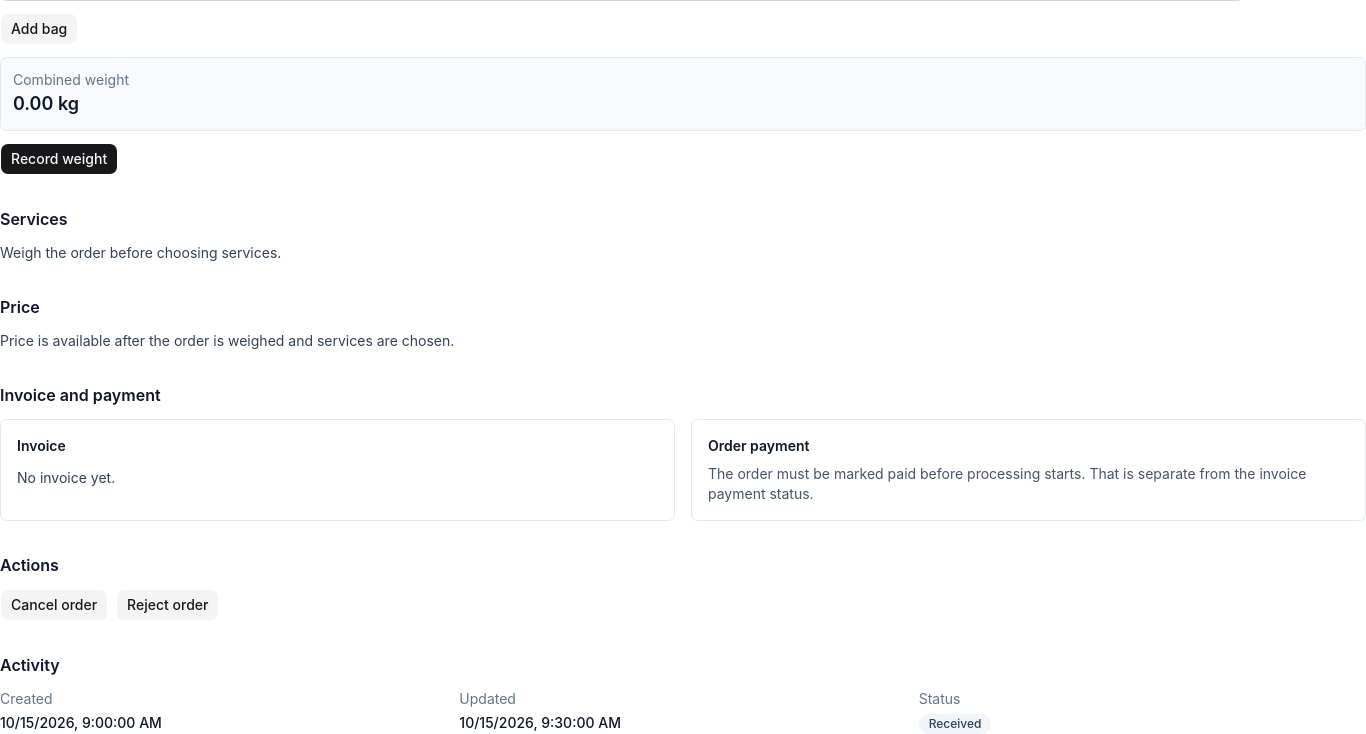
Test case: order page lifecycle actions (#165) › case 3: a destructive button opens its confirmation and sends nothing; Cancel closes it
(page scrolled)
Expected: the element with id "laundry-order-actions" is shown, top-left (0, 555), bottom-right (219, 621)
Click the button "Cancel order". click: click(54, 605)
box: top-left (0, 589), bottom-right (108, 621)
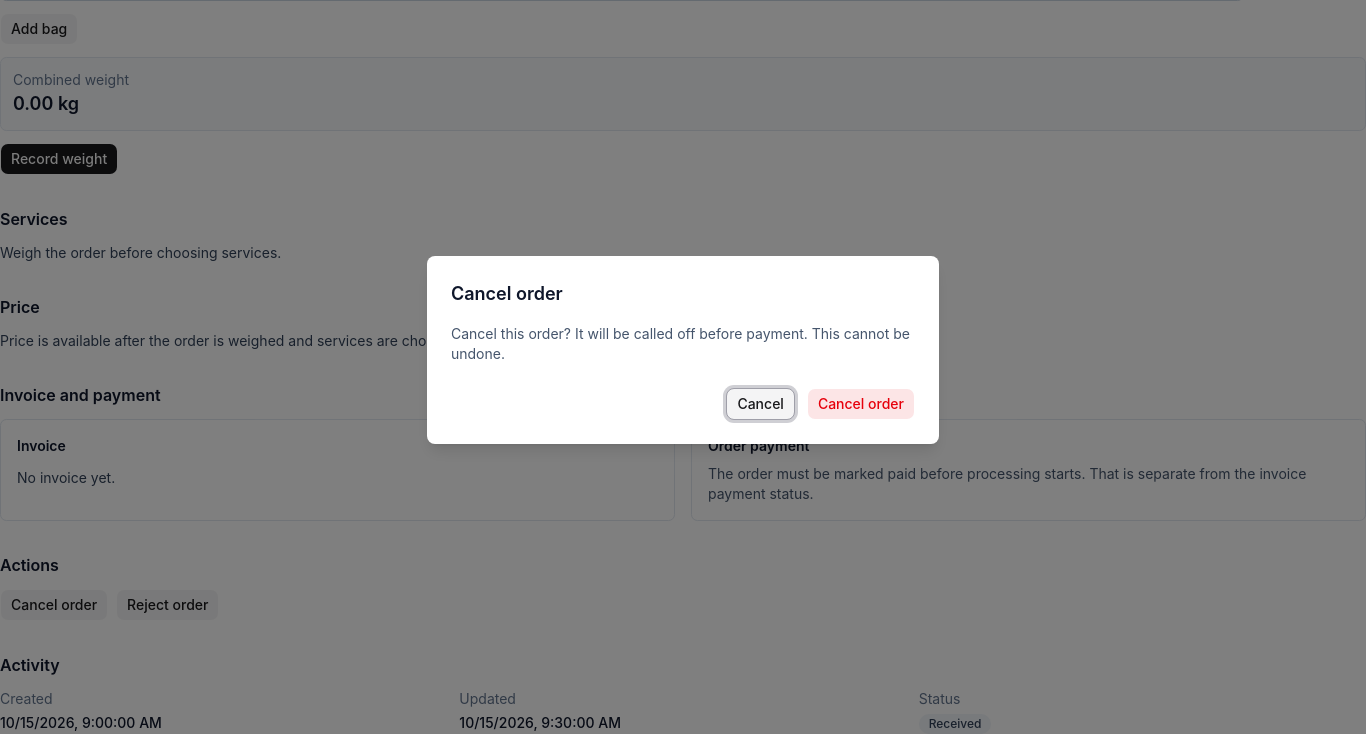
Expected: the dialog shows "Cancel this order? It will be called off before payment. This cannot be undone.", top-left (451, 325), bottom-right (910, 362)
Expected: the button "Cancel" is shown
Click the button "Cancel". click: click(761, 404)
box: top-left (726, 388), bottom-right (795, 420)
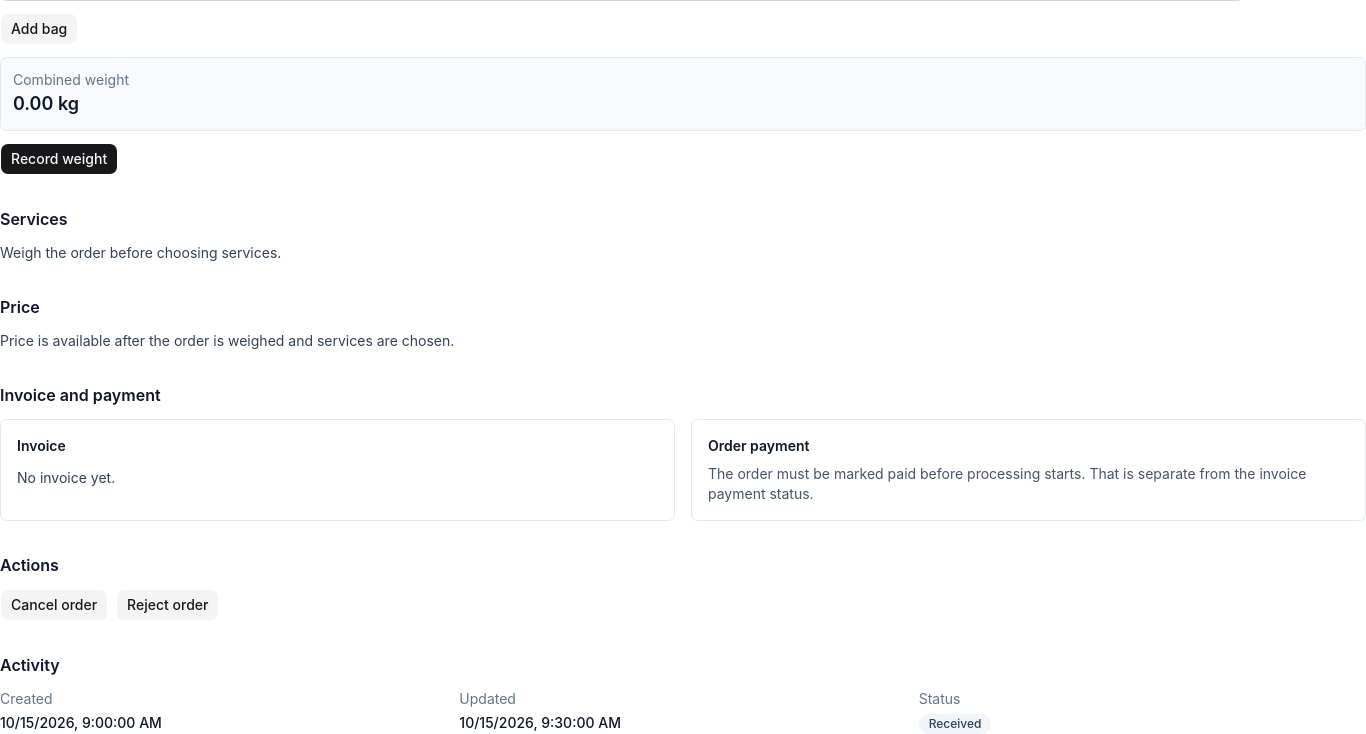
Expected: the dialog is gone
